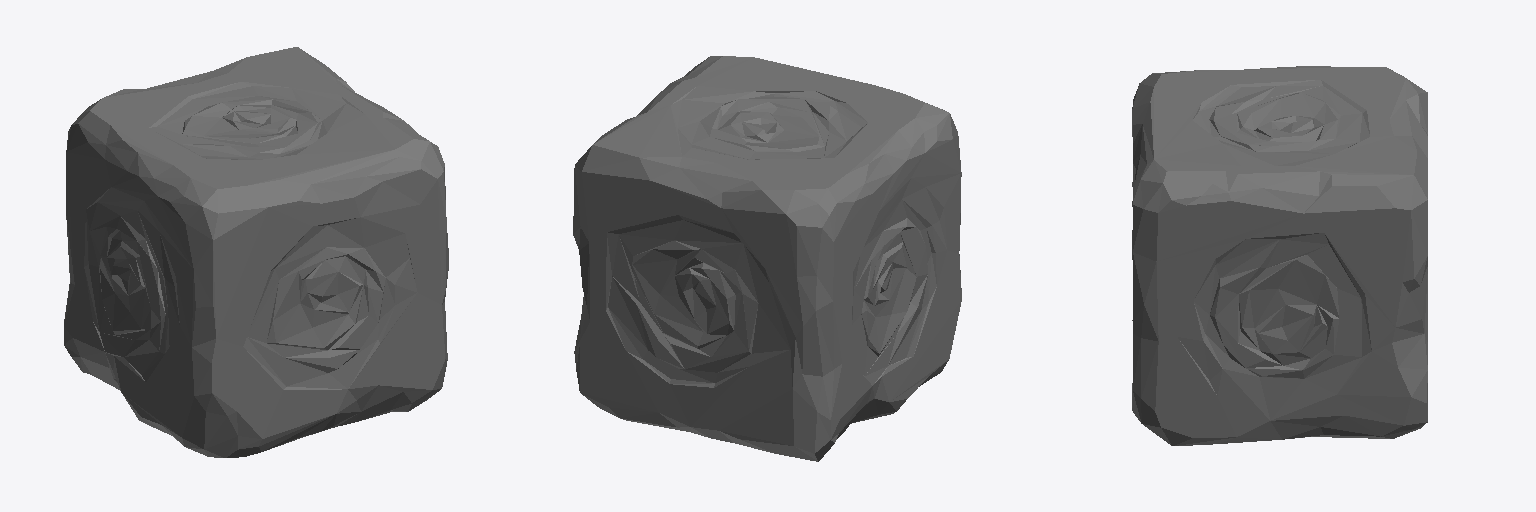
File: rose-stone.obj
3 views of the same model, side by side, from view 1: azimuth 30°, elevation 25°; view 2: azimuth 150°, elevation 25°; view 3: azimuth 270°, elevation 25° (orthographic).
Parts seen in each view (by area): view 1: Rose_stone_low_meshId0_name; view 2: Rose_stone_low_meshId0_name; view 3: Rose_stone_low_meshId0_name.
Part boxes in pixels (left/top/right/bottom): Rose_stone_low_meshId0_name: left=64, top=47, right=448, bottom=457; Rose_stone_low_meshId0_name: left=573, top=56, right=961, bottom=461; Rose_stone_low_meshId0_name: left=1132, top=66, right=1427, bottom=445.
Bounding box in the file's own units: 2 × 2 × 2.